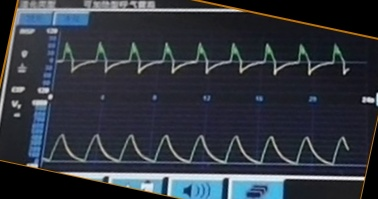Accumulation Flow: (60, 36, 350, 90)
Volume: (49, 121, 350, 172)
